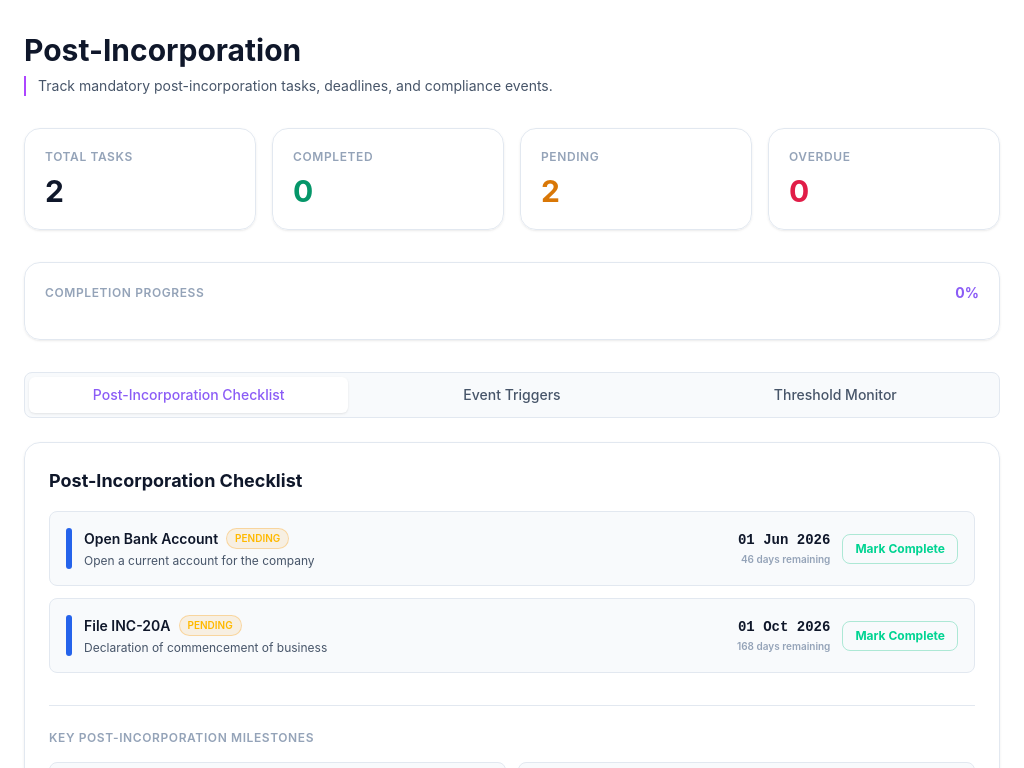
Test case: PostIncorporationPage › renders the thresholds tab with initial state
// Click thresholds tab
Click the button "Threshold Monitor": (835, 395) top-left (676, 377), bottom-right (995, 413)
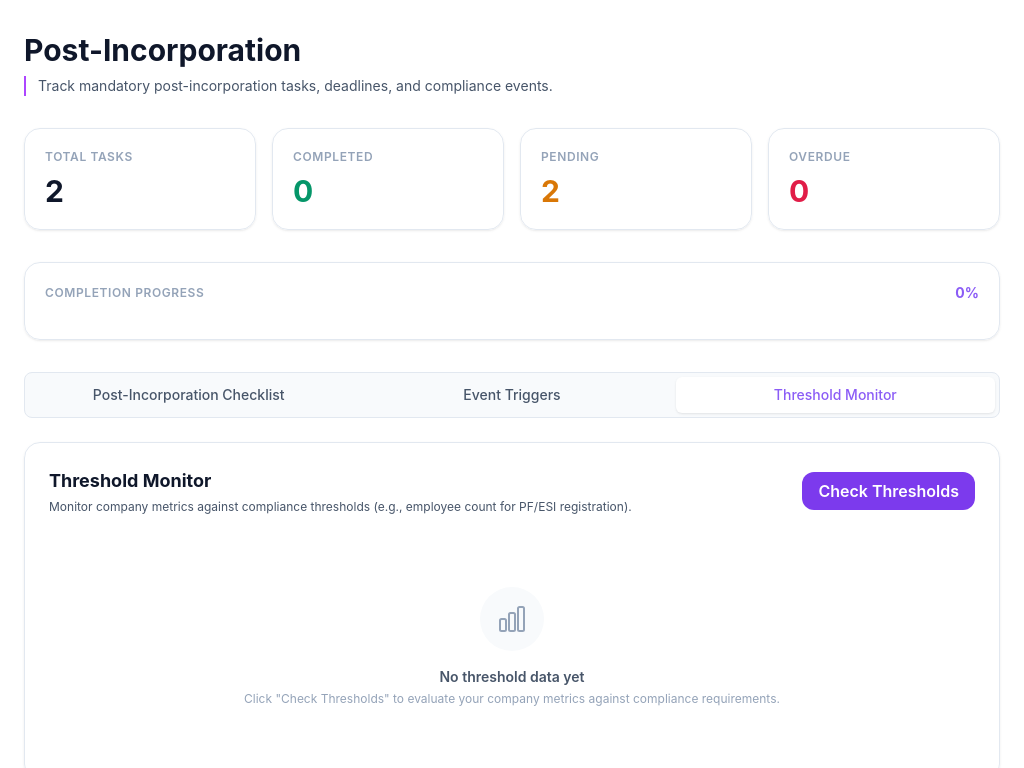
Check: the text "No threshold data yet" is shown, box top-left (440, 668), bottom-right (584, 685)
Check: the button "Check Thresholds" is shown, box top-left (802, 472), bottom-right (975, 510)
